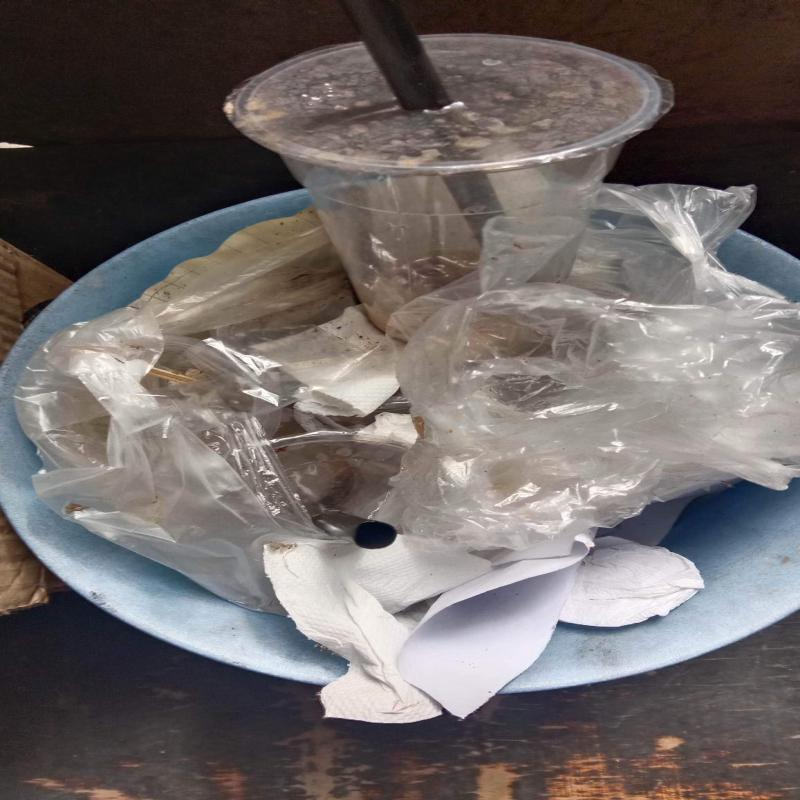paper: (266, 538, 492, 723), (398, 528, 597, 717), (557, 536, 705, 625)
plastic bag: (373, 185, 800, 548), (22, 222, 353, 615)
plastic container: (226, 35, 676, 334)
plastic straw: (340, 0, 455, 109), (313, 511, 398, 549)
